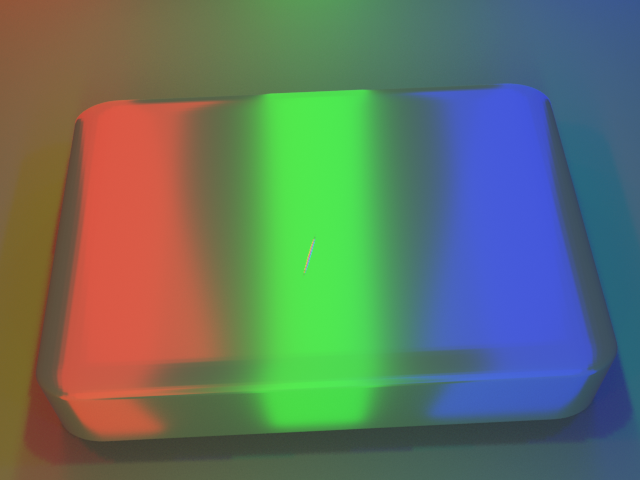scratch: (208, 202, 405, 316)
